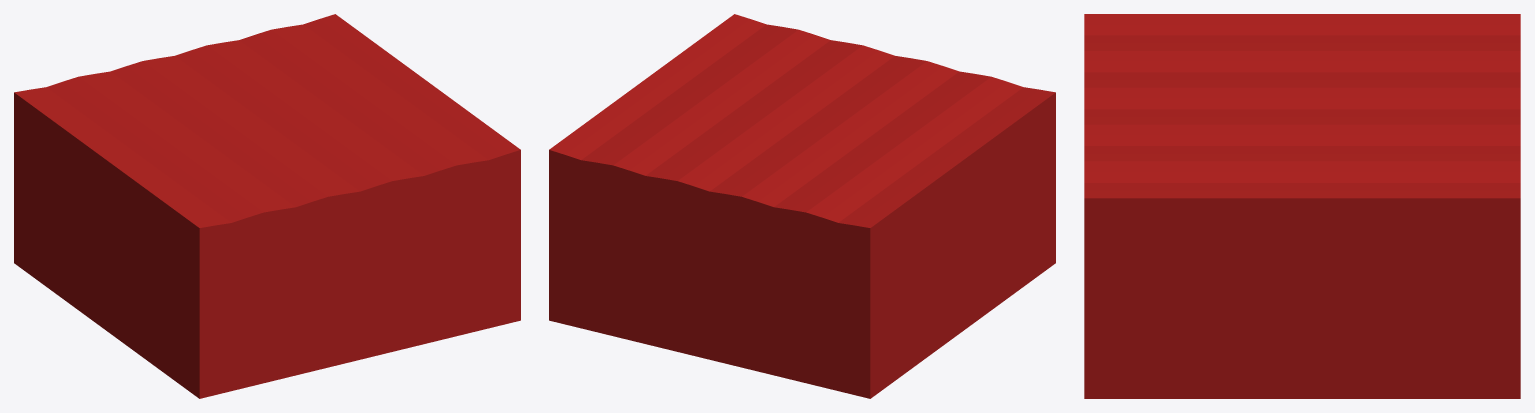
File: Warning Line.fbx
The picture shows the model from 3 angles, left to right: view 1: azimuth 30°, elevation 25°; view 2: azimuth 150°, elevation 25°; view 3: azimuth 270°, elevation 25°; orthographic projection. The views are drawn at different scales.
Parts seen in each view (by area): view 1: Cube; view 2: Cube; view 3: Cube.
Boxes of the visible parts, left/top/right/bottom form: Cube: left=14, top=14, right=520, bottom=398; Cube: left=549, top=14, right=1055, bottom=398; Cube: left=1084, top=14, right=1520, bottom=398.
Size of the model in its own units: 200 by 102 by 200.
